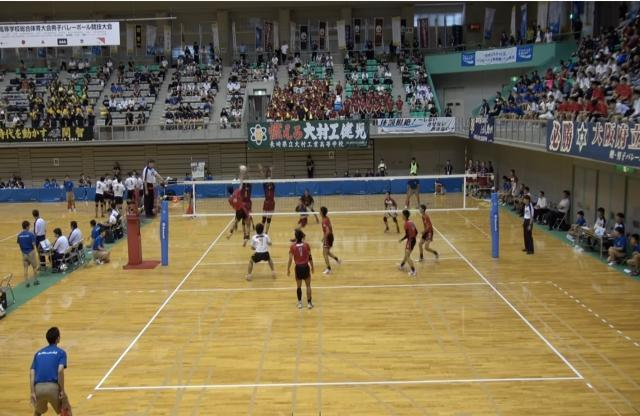spike: (222, 162, 254, 250)
